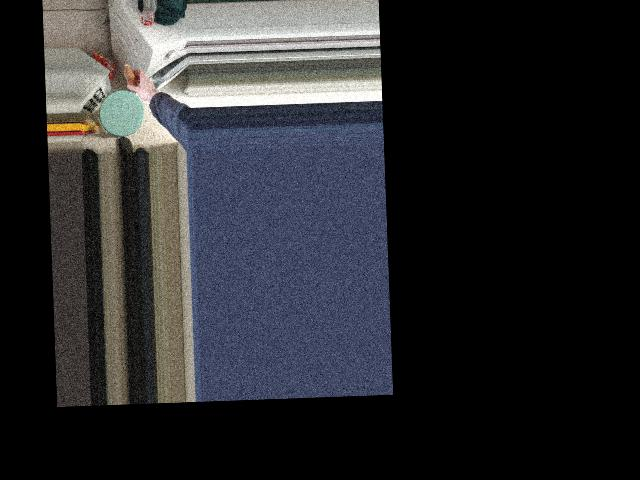sweet_potato: (124, 63, 145, 100)
